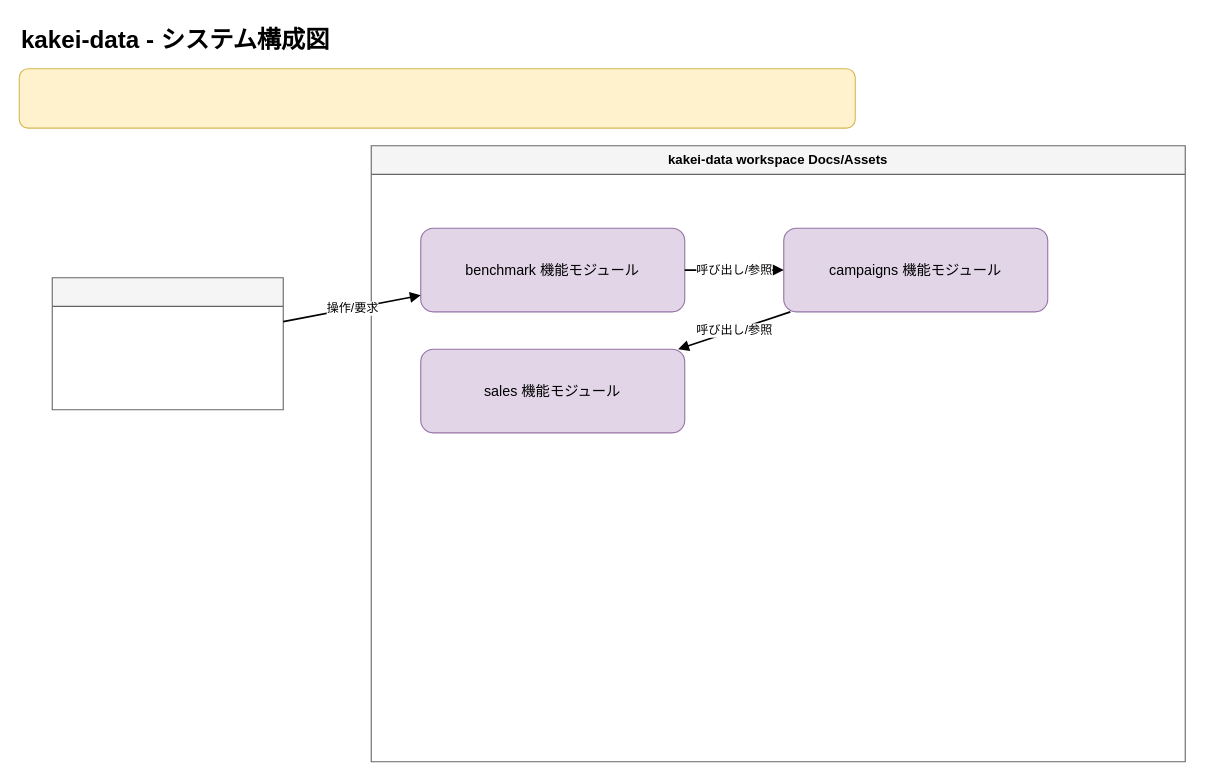
This 1205x781 diagram has some shape labels left out. Here are the shapes that lost their labels. From the top down, the box of each, then its label:
(18, 68, 855, 128): [高] README/manifest/主要サブディレクトリから生成。 実行時挙動・外部API契約はコード詳細レビューで補完。
(51, 277, 283, 410): 利用端末/実行者 Browser / CLI / Mobile
